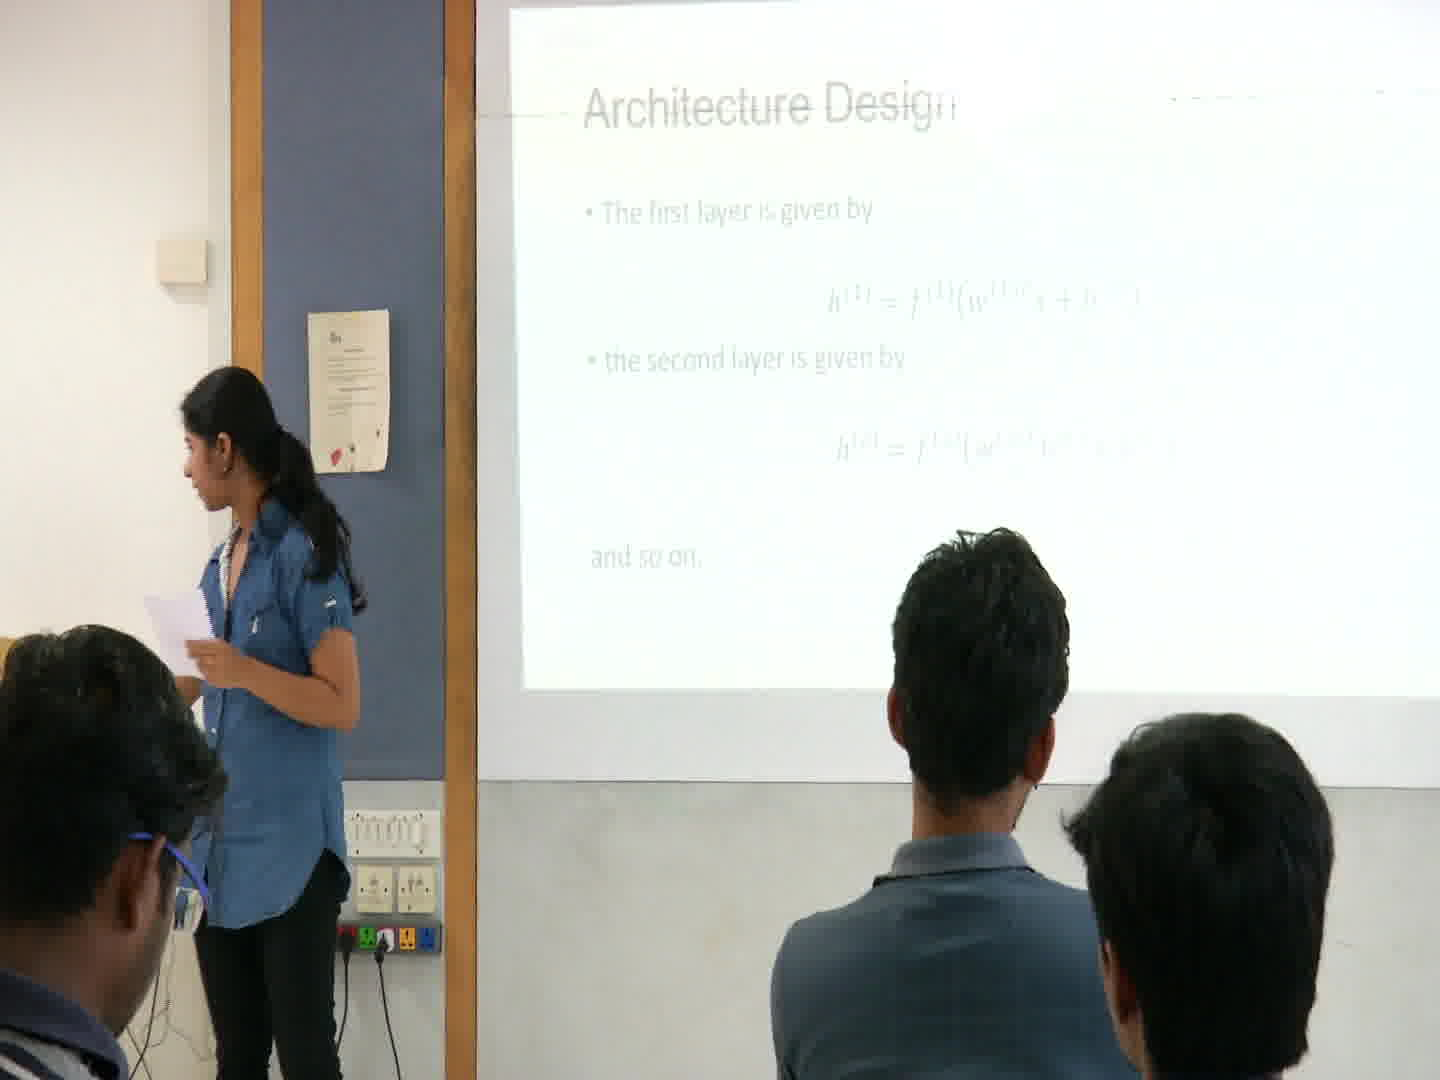eq: (819, 275, 1151, 323), (825, 421, 1113, 471)
